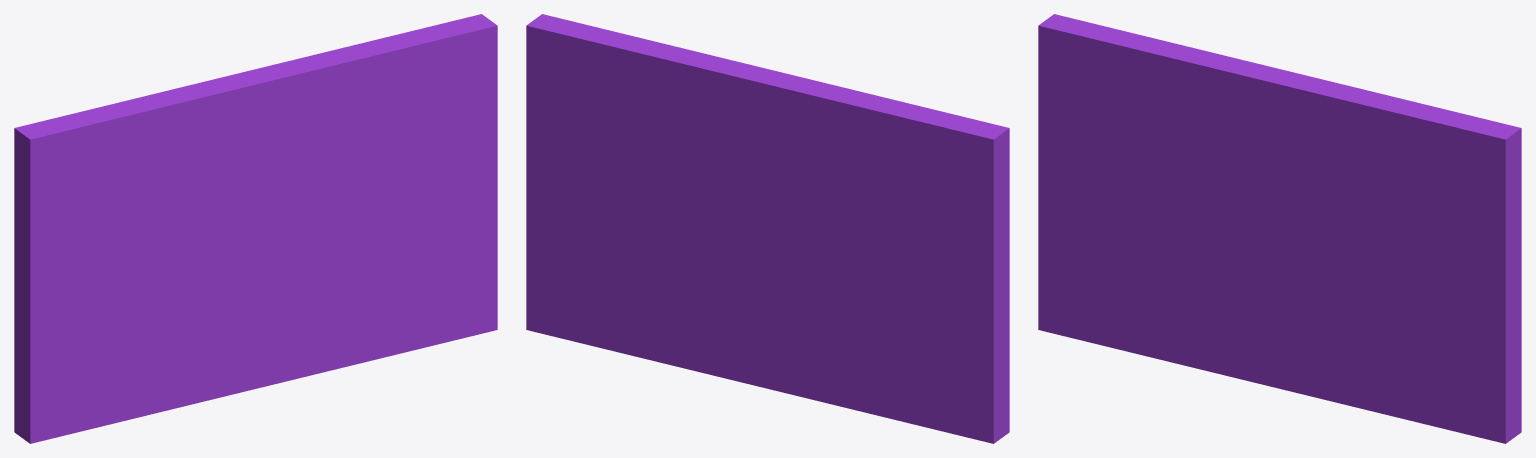
File: Barrier_113_chunks.fbx
The picture shows the model from 3 angles, left to right: view 1: azimuth 30°, elevation 25°; view 2: azimuth 150°, elevation 25°; view 3: azimuth 330°, elevation 25°; orthographic projection.
Visible parts, largest first — view 1: Barrier_113_1, Barrier_113_0, Barrier_113_6, Barrier_113_5, Barrier_113_2, Barrier_113_4, Barrier_113_3; view 2: Barrier_113_1, Barrier_113_0, Barrier_113_5, Barrier_113_4, Barrier_113_6; view 3: Barrier_113_1, Barrier_113_0, Barrier_113_6, Barrier_113_5, Barrier_113_2, Barrier_113_4, Barrier_113_3.
Part boxes in pixels (<box>): Barrier_113_1: <box>269,14,497,381</box>; Barrier_113_0: <box>14,194,286,443</box>; Barrier_113_6: <box>14,76,258,163</box>; Barrier_113_5: <box>228,29,426,177</box>; Barrier_113_2: <box>228,39,440,252</box>; Barrier_113_4: <box>14,139,201,219</box>; Barrier_113_3: <box>193,132,273,223</box>; Barrier_113_1: <box>526,14,761,382</box>; Barrier_113_0: <box>742,184,1009,443</box>; Barrier_113_5: <box>589,33,812,239</box>; Barrier_113_4: <box>774,144,1009,237</box>; Barrier_113_6: <box>780,72,1009,151</box>; Barrier_113_1: <box>1277,113,1521,443</box>; Barrier_113_0: <box>1038,81,1294,392</box>; Barrier_113_6: <box>1038,14,1267,123</box>; Barrier_113_5: <box>1239,66,1458,182</box>; Barrier_113_2: <box>1236,116,1448,254</box>; Barrier_113_4: <box>1038,49,1209,189</box>; Barrier_113_3: <box>1202,116,1281,206</box>.
Size of the model in its own units: 462 by 288 by 27.2.
